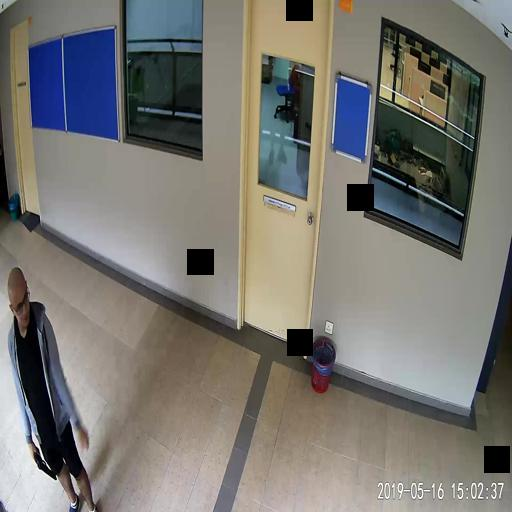Handgun: (32, 445, 55, 478)
